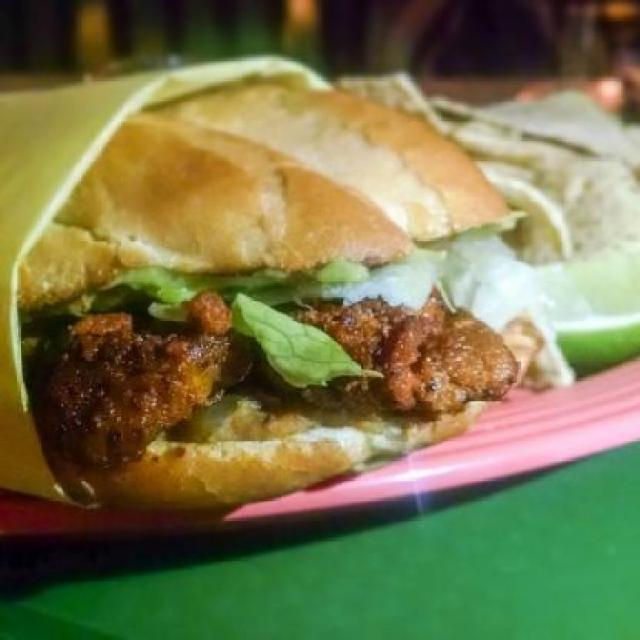Hamburger: (15, 85, 520, 513)
